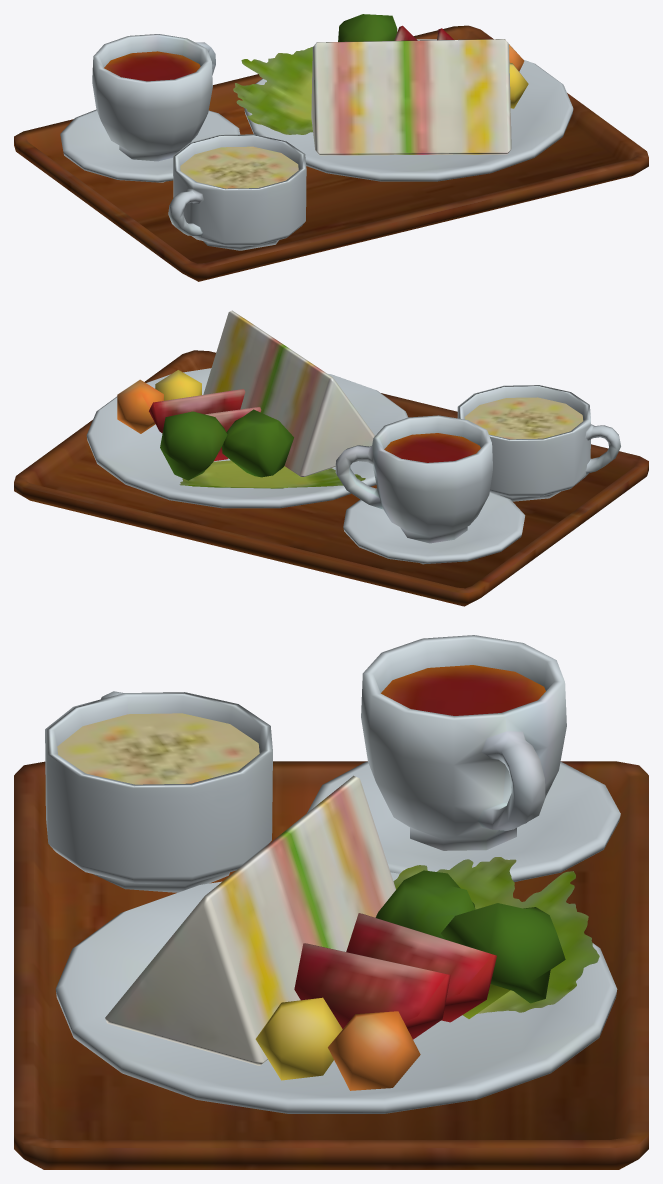
The picture shows the model from 3 angles, top to bottom: view 1: azimuth 30°, elevation 25°; view 2: azimuth 150°, elevation 25°; view 3: azimuth 270°, elevation 25°; orthographic projection. The views are drawn at different scales.
Bounding box in the file's own units: 8.94 × 2.23 × 6.2.
1 material, 1 textured.
